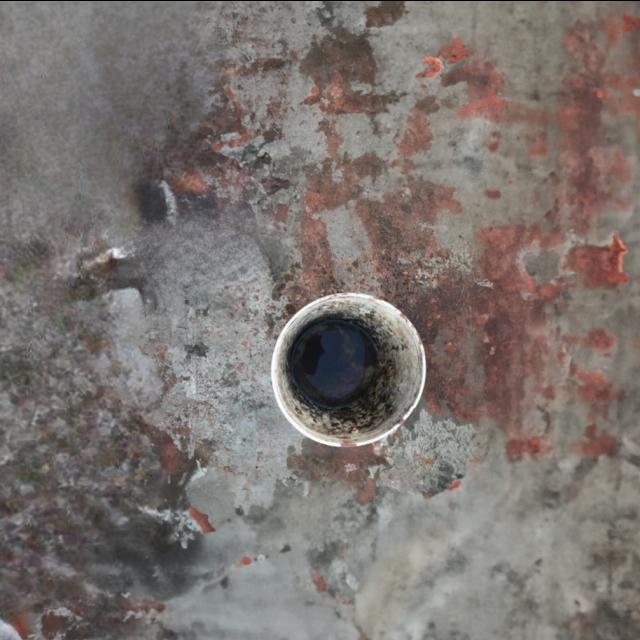Breeding Place: (238, 280, 453, 468)
